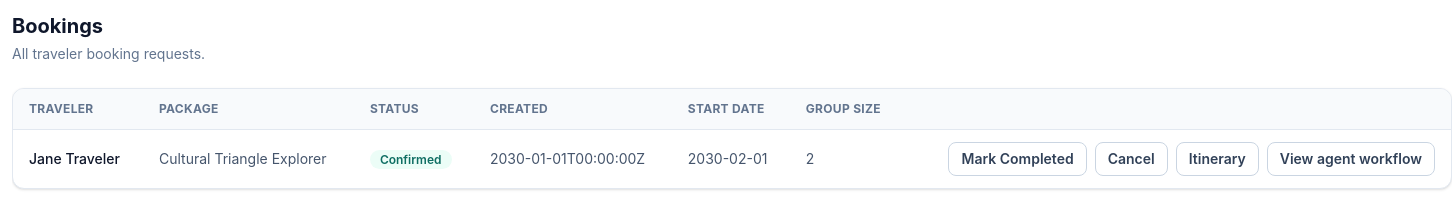
Test case: OpsBookingsPage › marks a confirmed booking as completed
expect the text "Confirmed" is shown: met, box [370,150,452,169]
Click the button "Mark Completed".
click(1018, 159)  # box [948,142,1087,176]
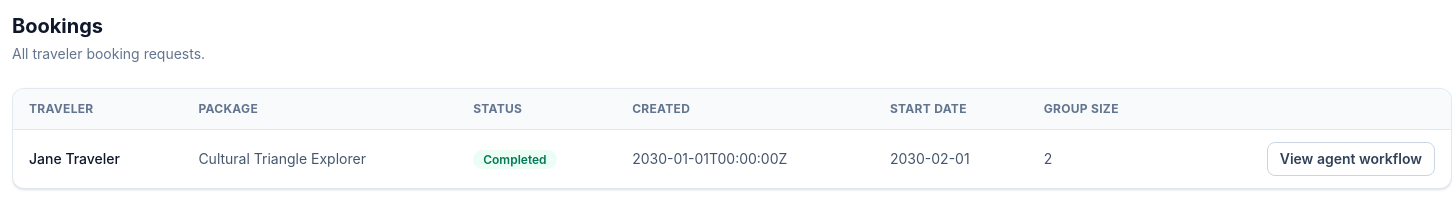
expect the text "Completed" is shown: met, box [473,150,557,169]
